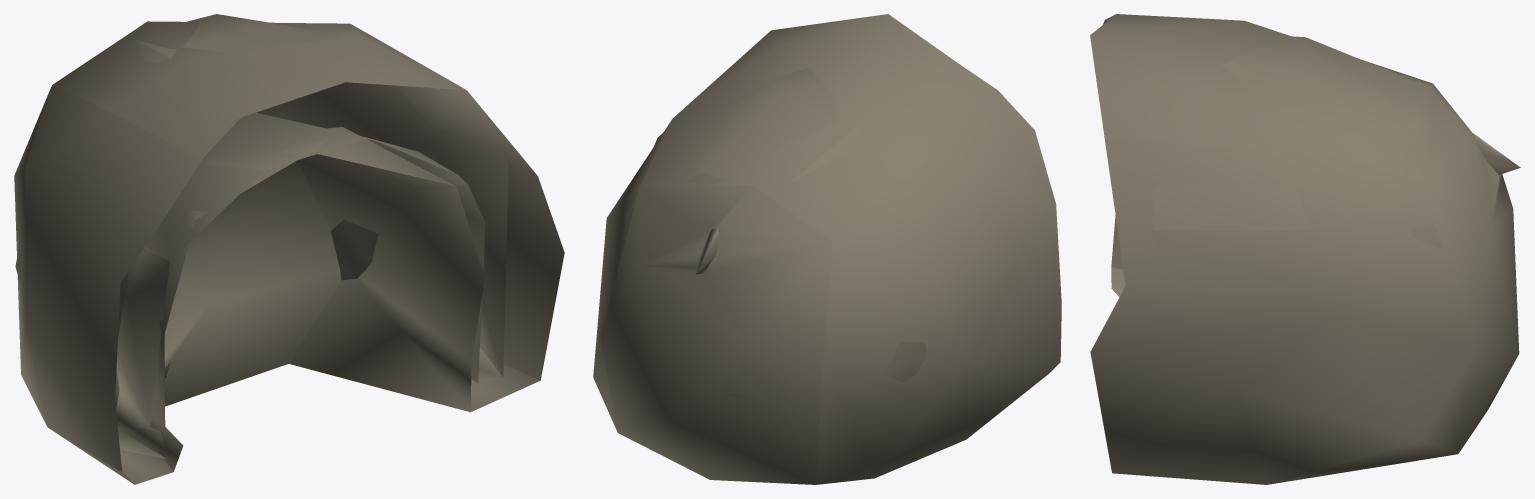
The model's file is panda.glb.
The picture shows the model from 3 angles, left to right: view 1: azimuth 30°, elevation 25°; view 2: azimuth 150°, elevation 25°; view 3: azimuth 270°, elevation 25°; orthographic projection. The views are drawn at different scales.
Visible parts, largest first — view 1: geometry_0; view 2: geometry_0; view 3: geometry_0.
Boxes of the visible parts, x1,y1,x2,y2 form: geometry_0: [14, 14, 564, 484]; geometry_0: [593, 14, 1061, 484]; geometry_0: [1090, 14, 1520, 484].
Size of the model in its own units: 0.5015 by 0.4564 by 0.4491.
